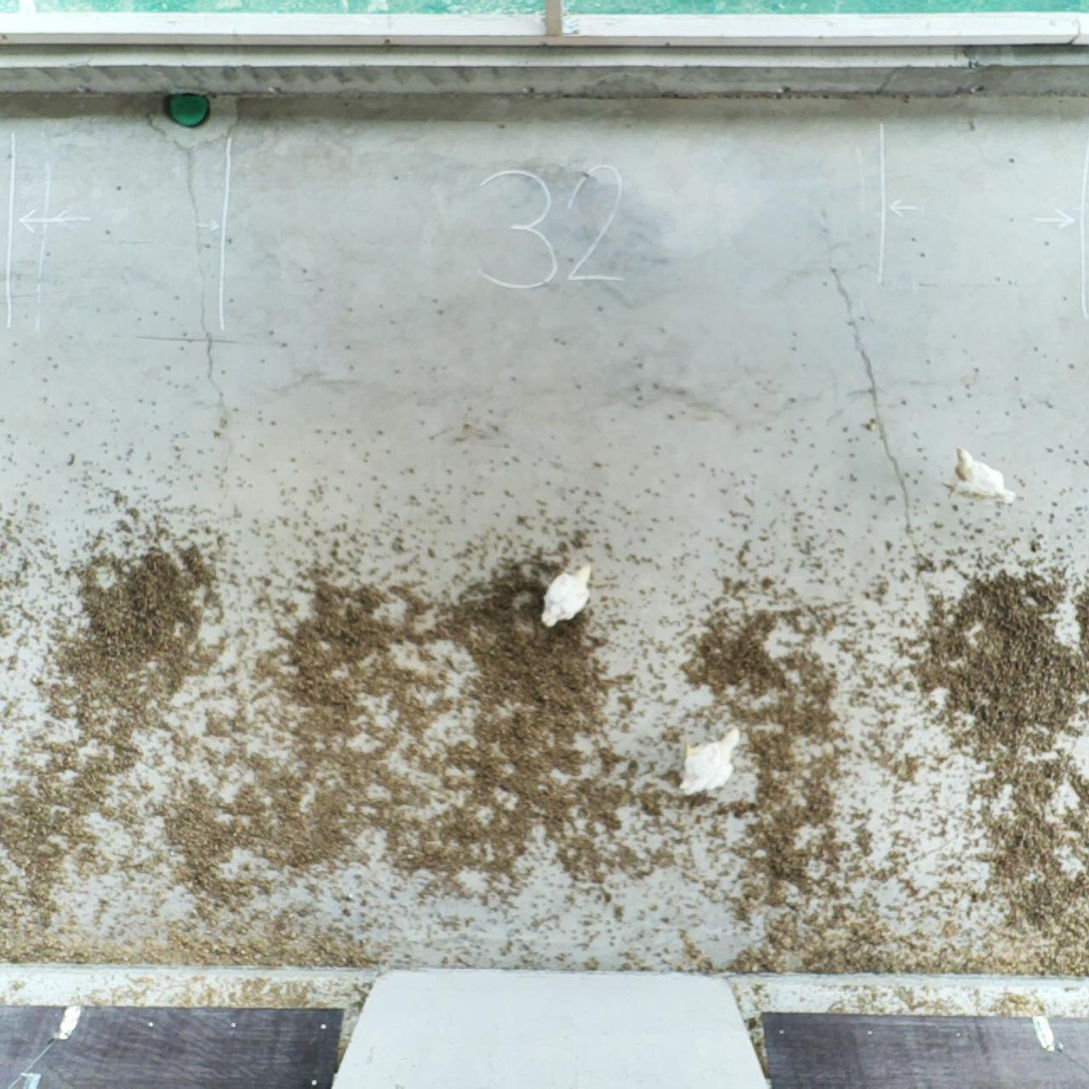chicken: (938, 444, 1017, 513), (674, 722, 743, 800), (538, 561, 596, 630)
